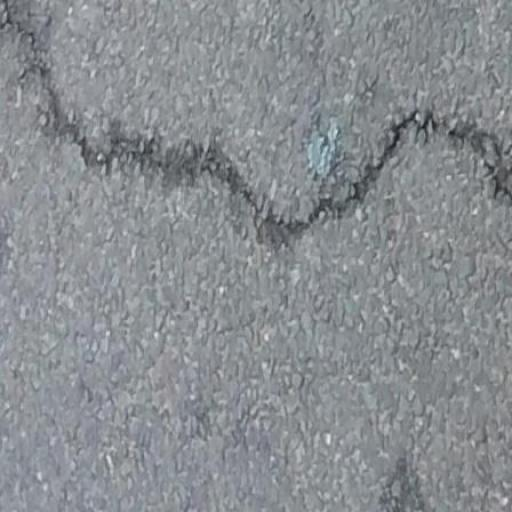spalling: (23, 34, 511, 247)
